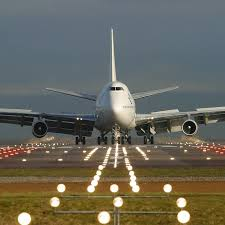aeroplane: (2, 23, 223, 151)
